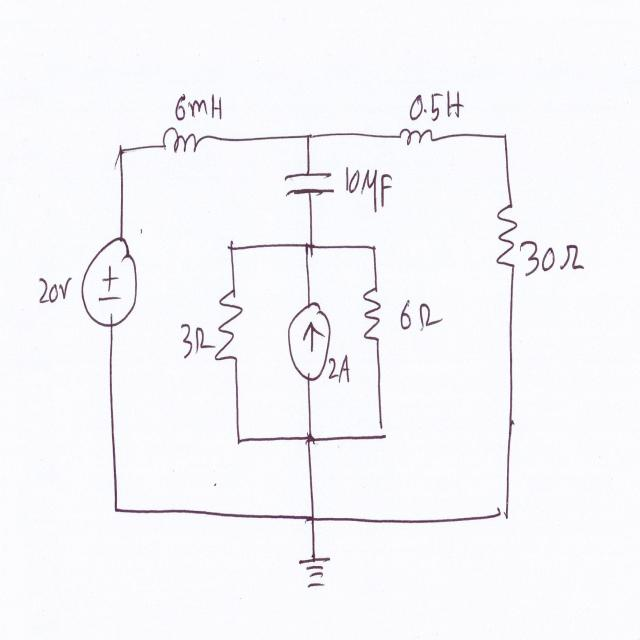capacitor: (280, 163, 338, 205)
current_source: (284, 290, 333, 383)
ground: (295, 545, 335, 596)
inductor: (160, 119, 208, 162), (393, 116, 441, 153)
resistor: (212, 280, 246, 374), (490, 188, 523, 280), (358, 279, 386, 351)
voltage_source: (77, 225, 142, 332)
